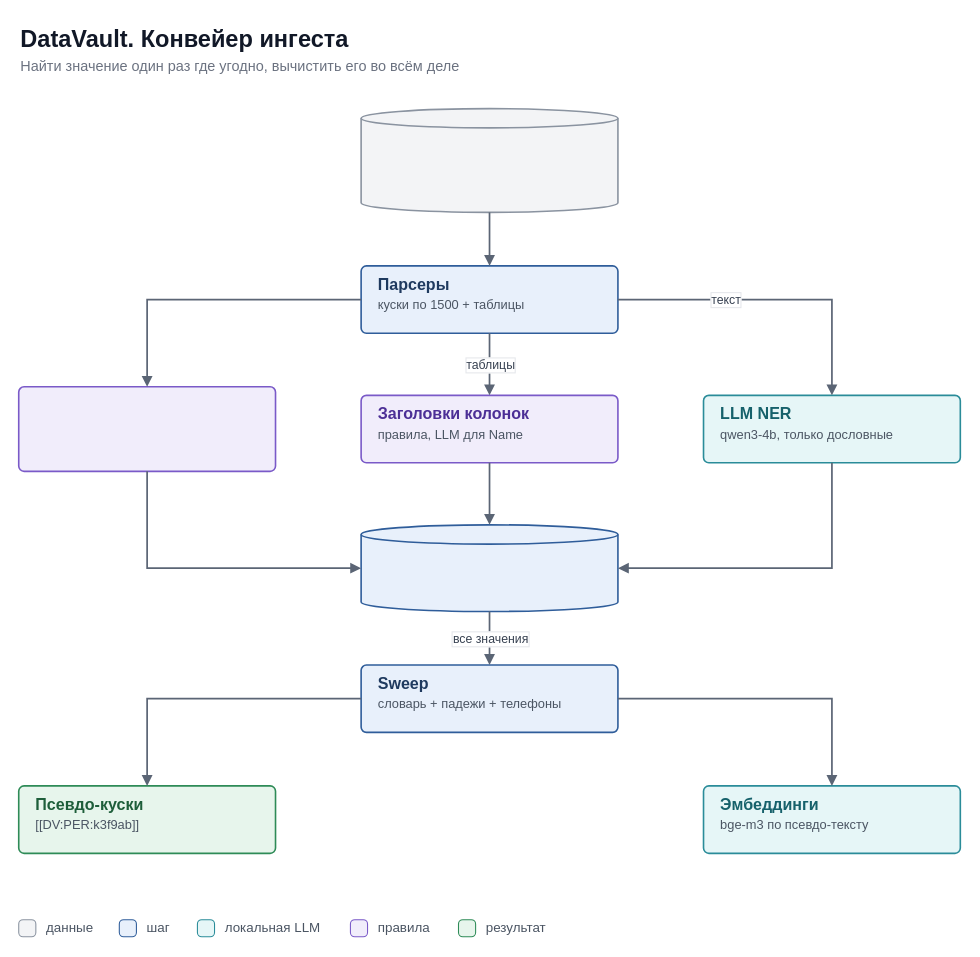
Some shapes in this 980 by 957 pixel diagram are drawn without their labels. The shapes that lost their labels are listed below. From the top down, each one's box as (x1, y1, x2, y2) in pixels, then its label:
(360, 107, 618, 213): Источники дела csv xlsx docx pdf eml cfg env ps1
(17, 386, 276, 472): Regex + DLP IP, хосты, секреты, ПИНФЛ, телефоны
(360, 524, 618, 612): Handle store связывание ФИО, алиасы фамилий
